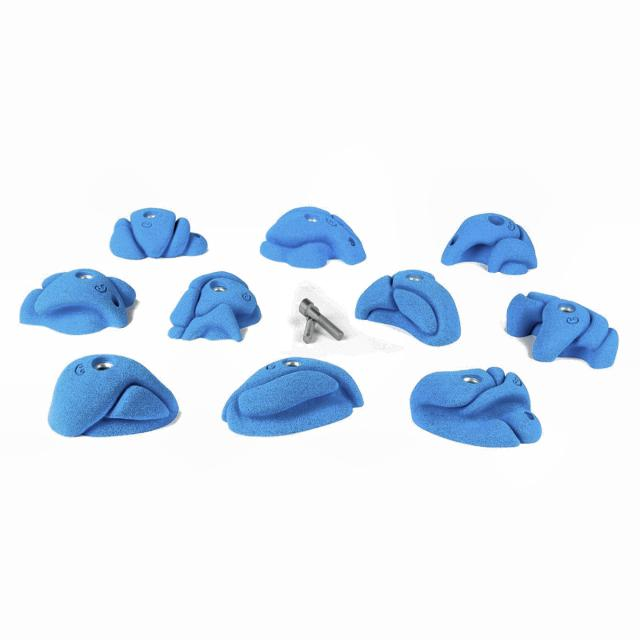Hold: (219, 360, 359, 434), (501, 292, 620, 374), (411, 368, 534, 445), (29, 266, 144, 346), (58, 359, 175, 434), (353, 266, 454, 340), (442, 210, 539, 274), (170, 276, 259, 341), (267, 203, 378, 253), (113, 208, 201, 260)
